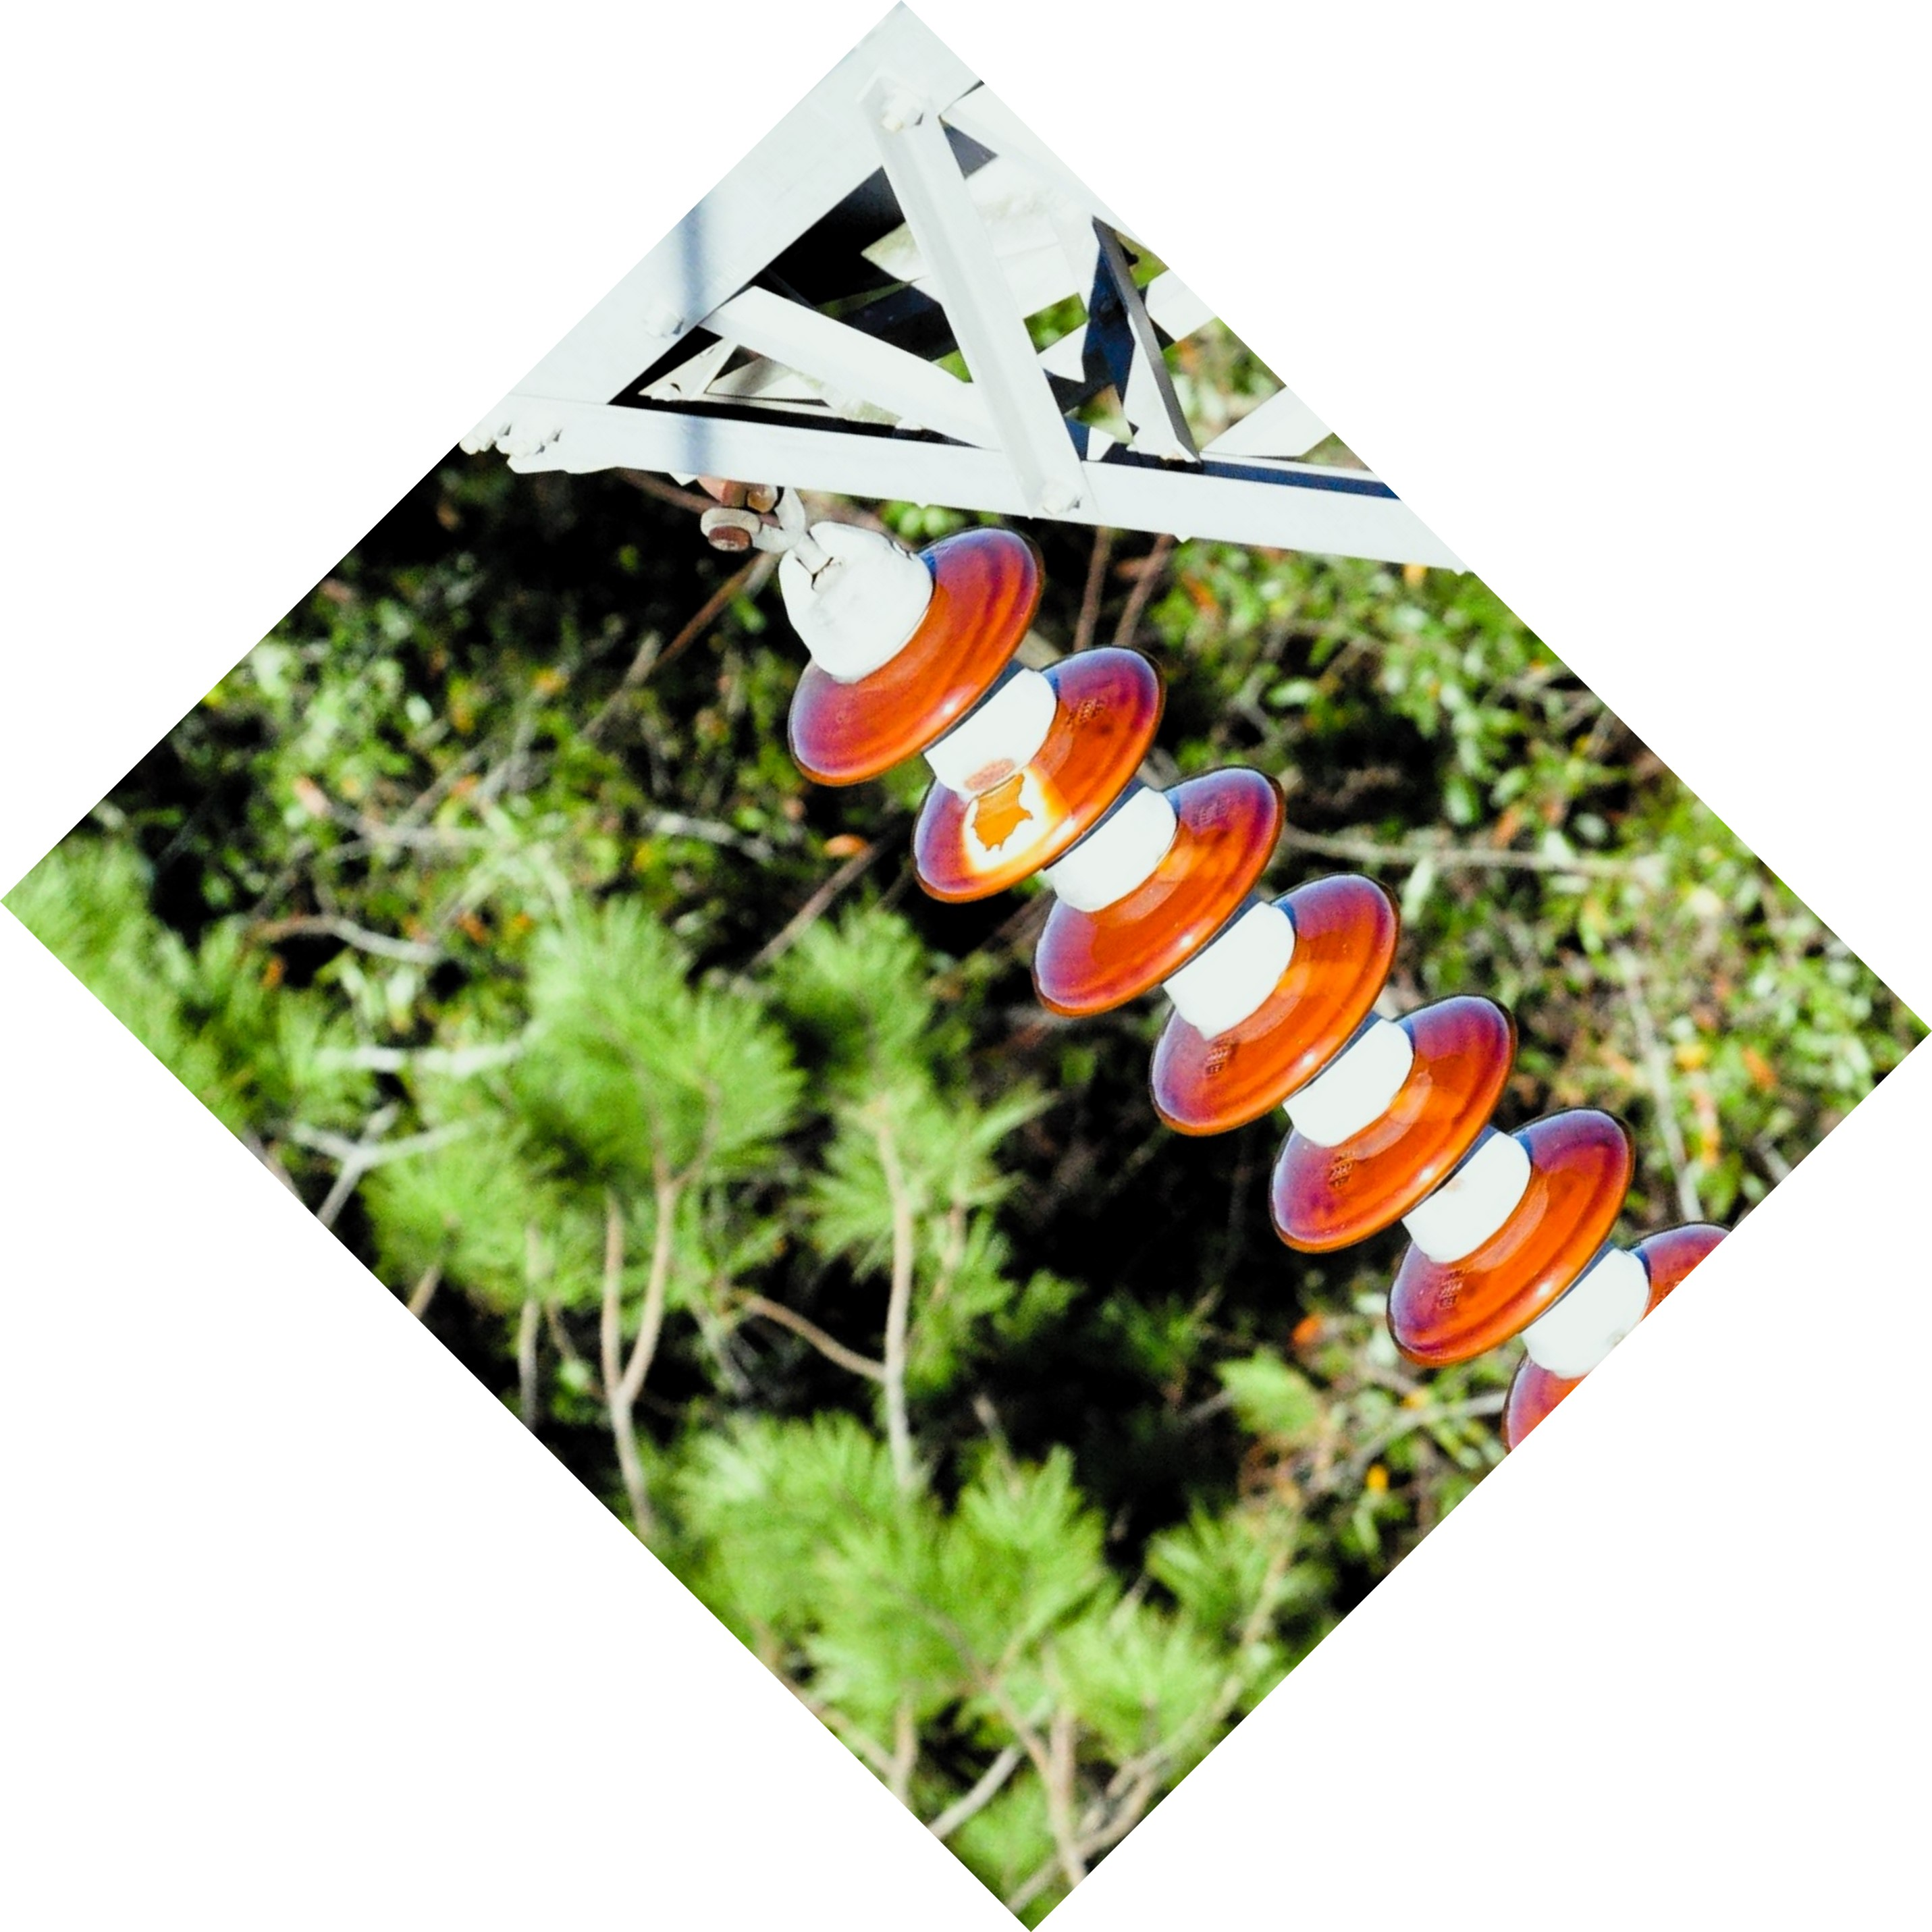Insulator flashover: (901, 639, 1175, 908)
